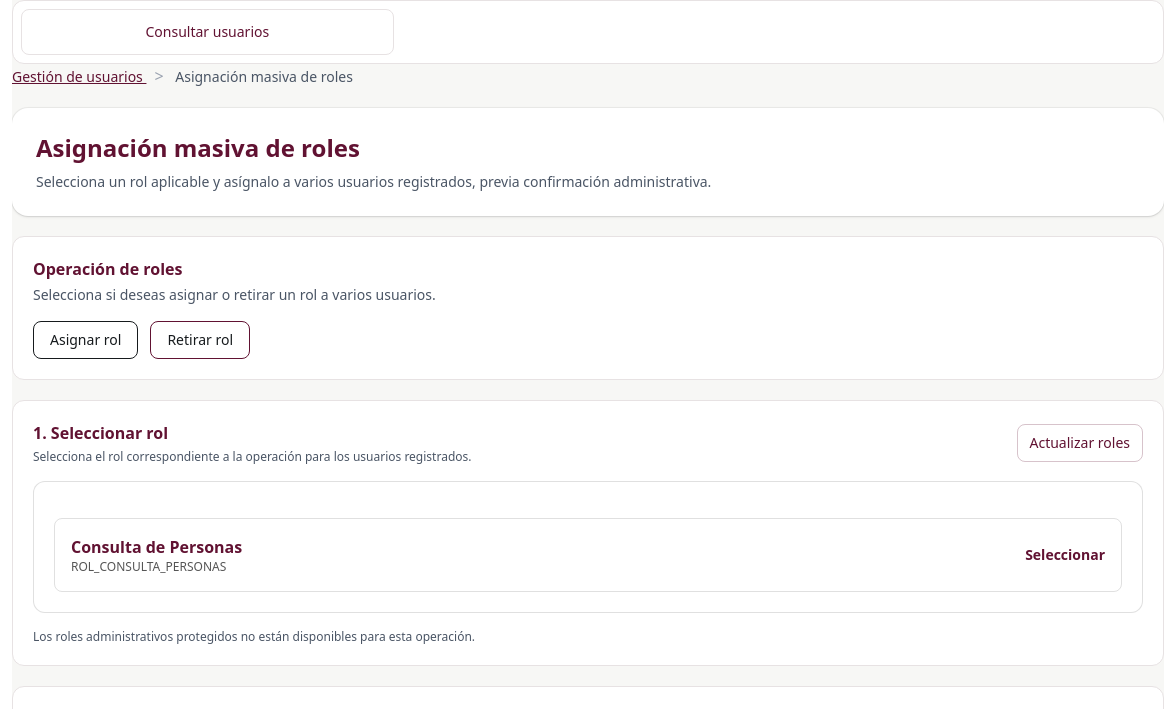
Test case: BulkRoleAssignmentPageComponent › selecciona un rol ordinario en modo retirada sin habilitar confirmacion
Expected: the element with test id "bulk-page-role-catalog" is shown, left=33, top=481, right=1143, bottom=613
Click the button with test id "select-available-role" at x=157, y=547, box left=54, top=518, right=1122, bottom=592
(page scrolled)
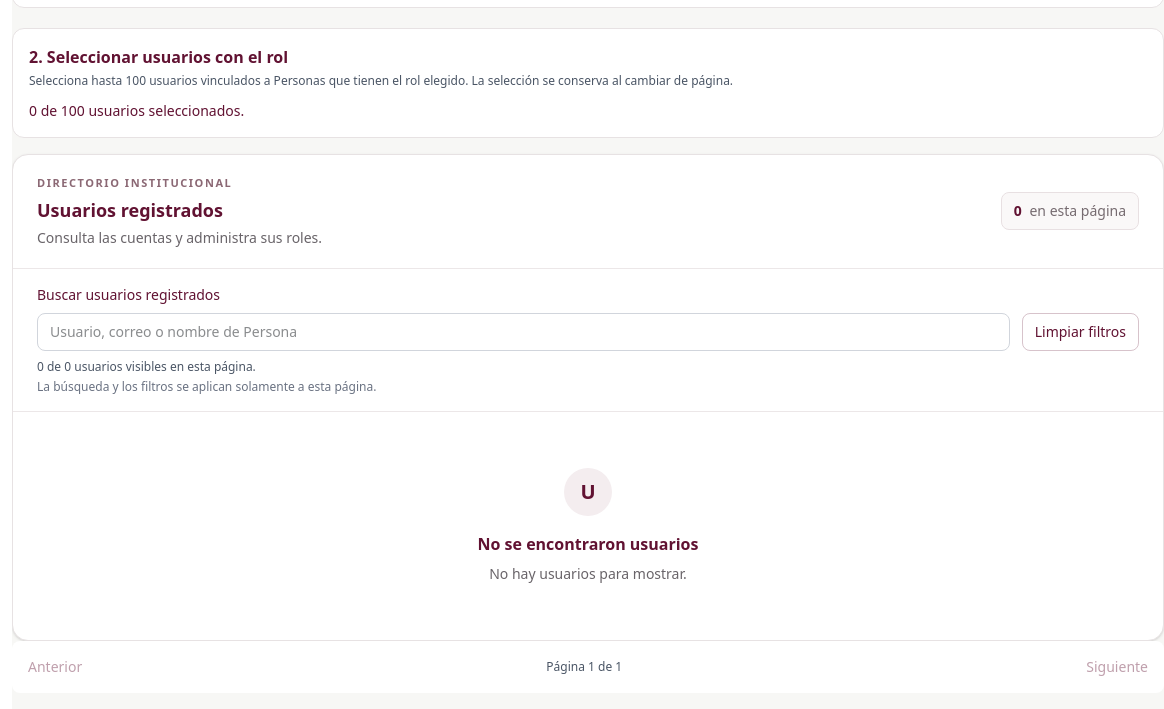
Expected: the element with test id "bulk-page-user-selection" is shown
